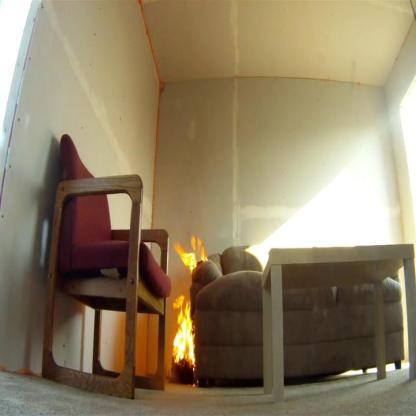fire: (170, 290, 197, 376), (172, 236, 208, 274)
